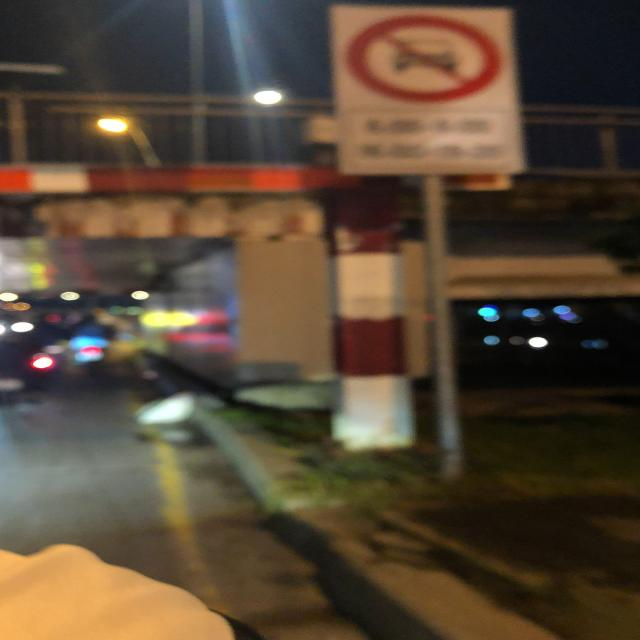Bien bao cam xe oto: (333, 13, 504, 105)
